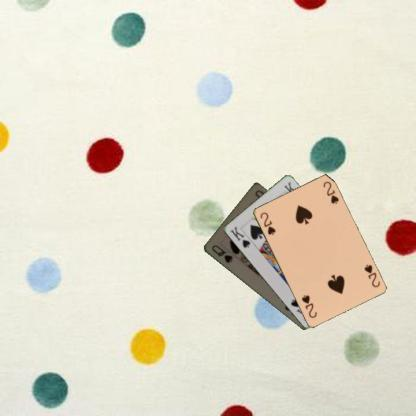2s: (257, 209, 277, 236), (361, 262, 381, 288)
Ks: (226, 224, 251, 249)
Qs: (209, 242, 233, 265)
